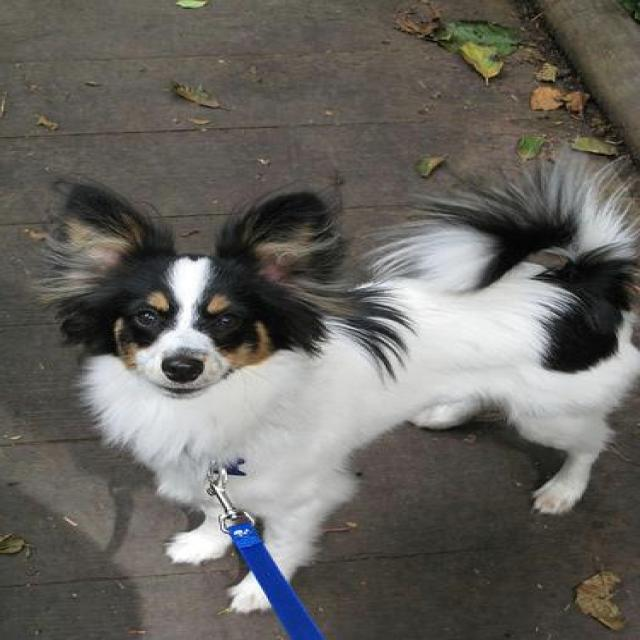papillon: (29, 140, 640, 614)
